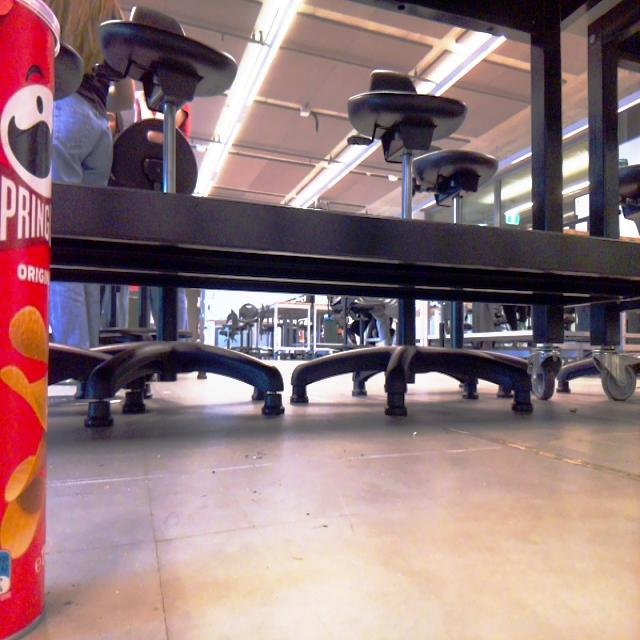redpringles: (0, 0, 112, 640)
